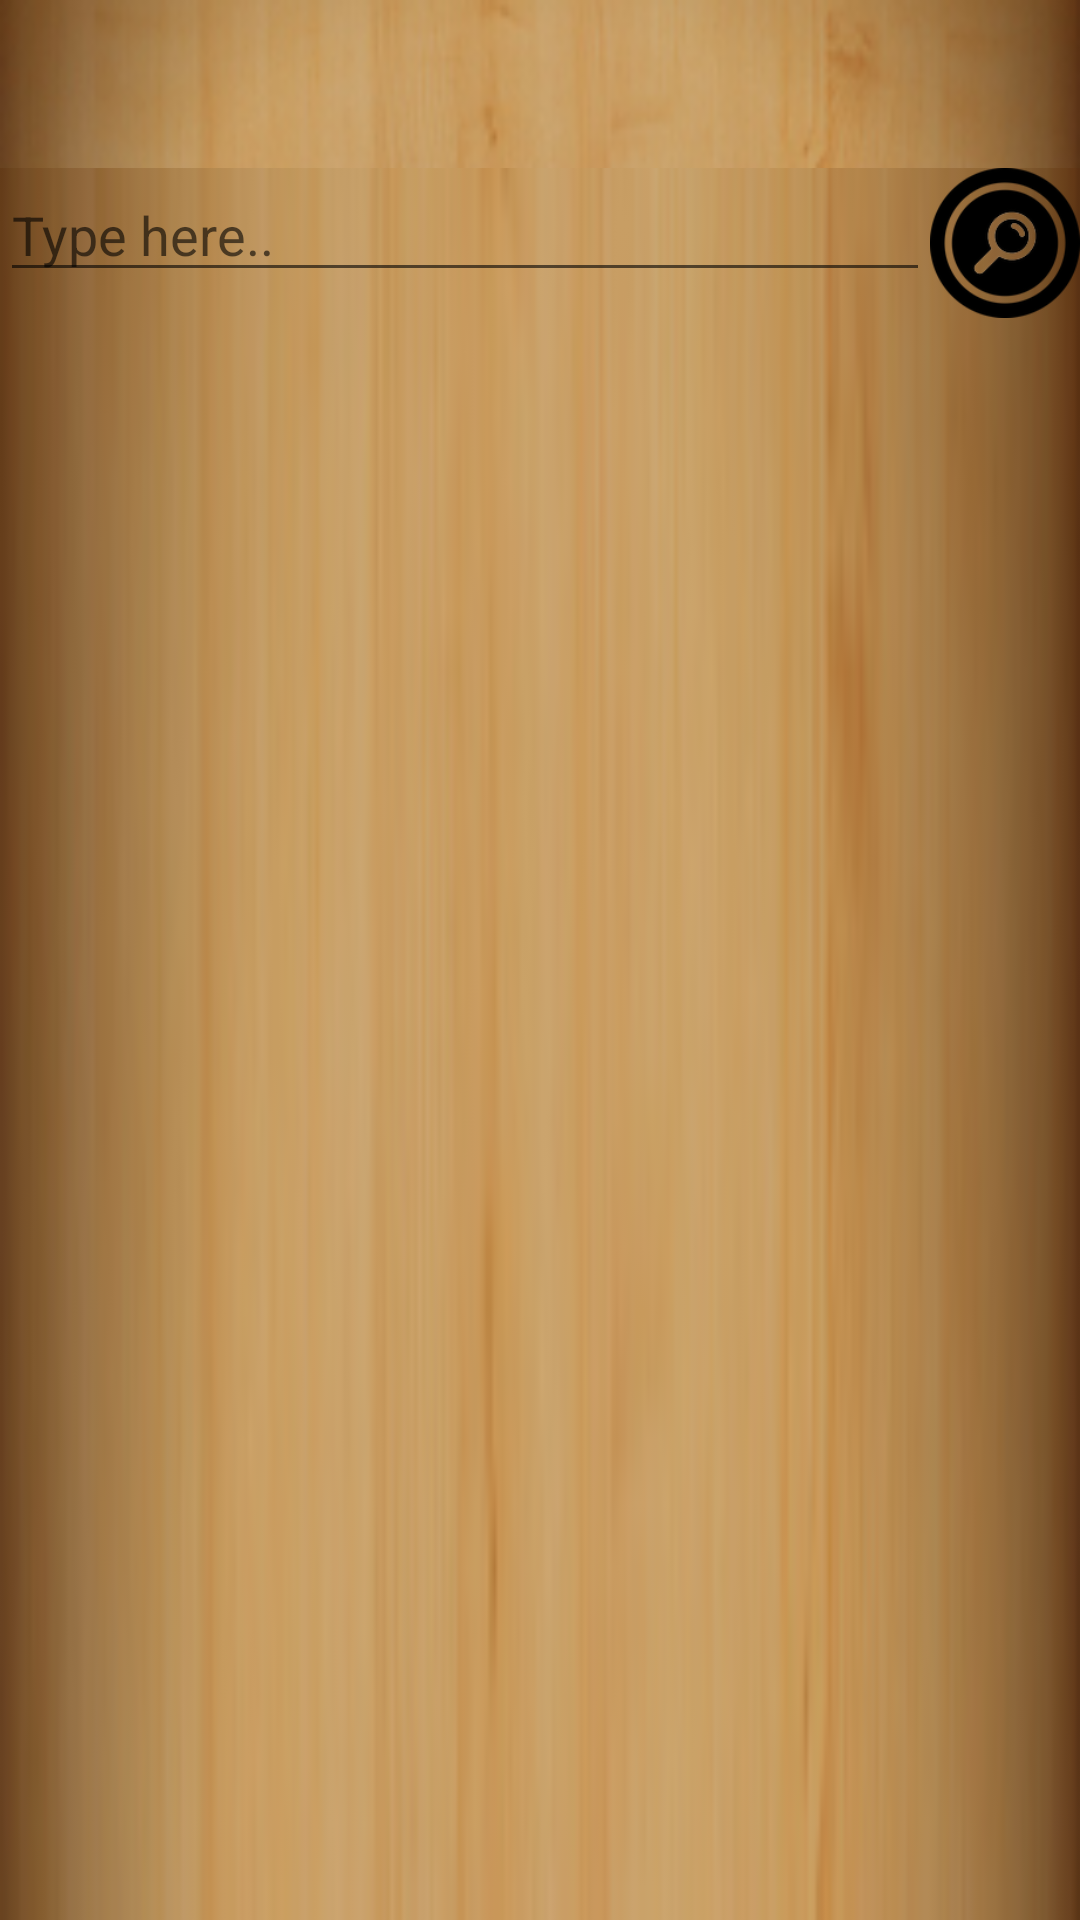

Screen size 1080 x 1920. Icon name, then its center in pixels as [x,y]:
book search: [1005,243]
